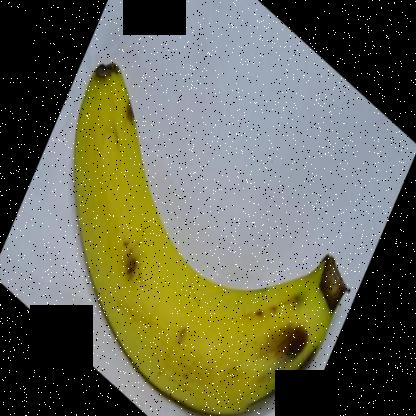freshripe: (62, 46, 368, 415)
